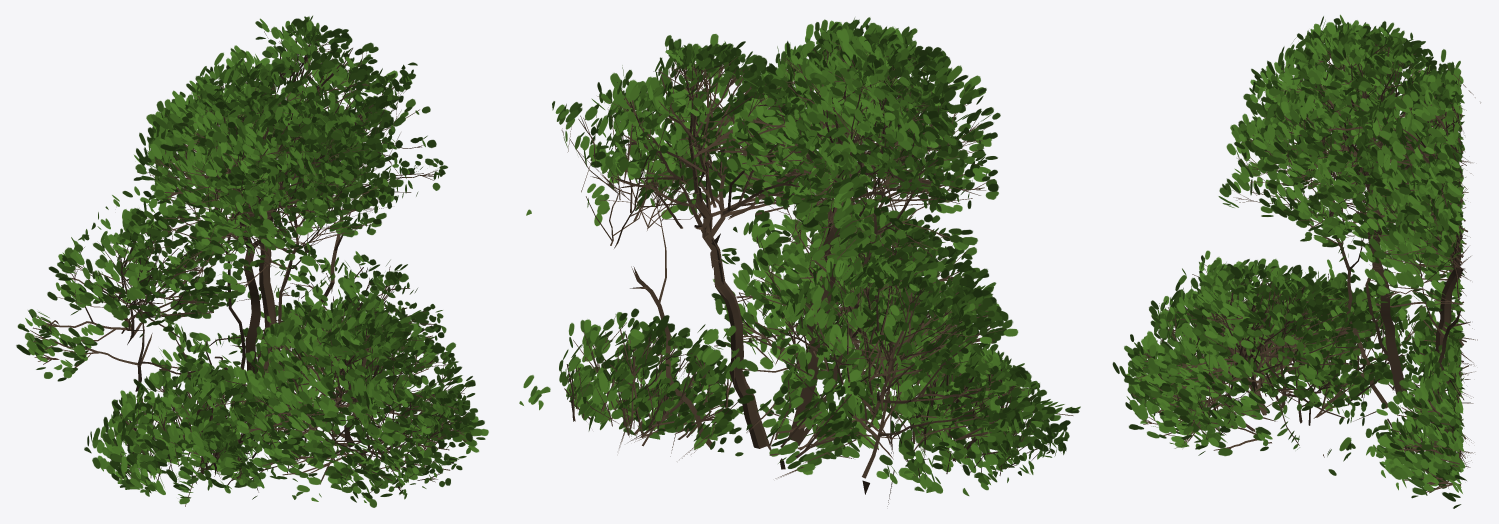
3 renders of one model, left to right at view 1: azimuth 30°, elevation 25°; view 2: azimuth 150°, elevation 25°; view 3: azimuth 270°, elevation 25°, orthographic. The views are drawn at different scales.
Visible parts, largest first — view 1: oak 01.001_trunk_Mat.001_0.497; view 2: oak 01.001_trunk_Mat.001_0.497; view 3: oak 01.001_trunk_Mat.001_0.497.
Part boxes in pixels (x1,y1,x2,y2): oak 01.001_trunk_Mat.001_0.497: [16, 15, 488, 507]; oak 01.001_trunk_Mat.001_0.497: [519, 17, 1080, 506]; oak 01.001_trunk_Mat.001_0.497: [1112, 14, 1480, 508].
Bounding box in the file's own units: 4.11 × 3.55 × 3.07.
Materials: 2 (1 with a texture image).
